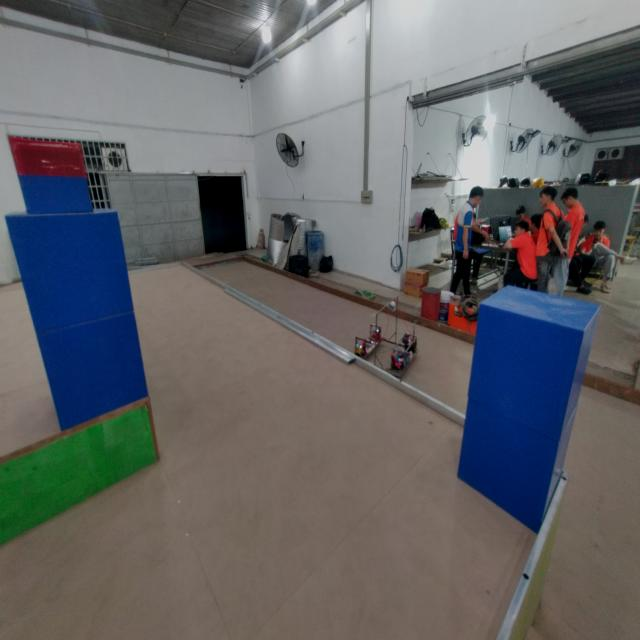earth_block: (466, 285, 600, 439), (2, 213, 140, 328), (33, 314, 149, 432)
sky_block: (6, 135, 95, 213)
